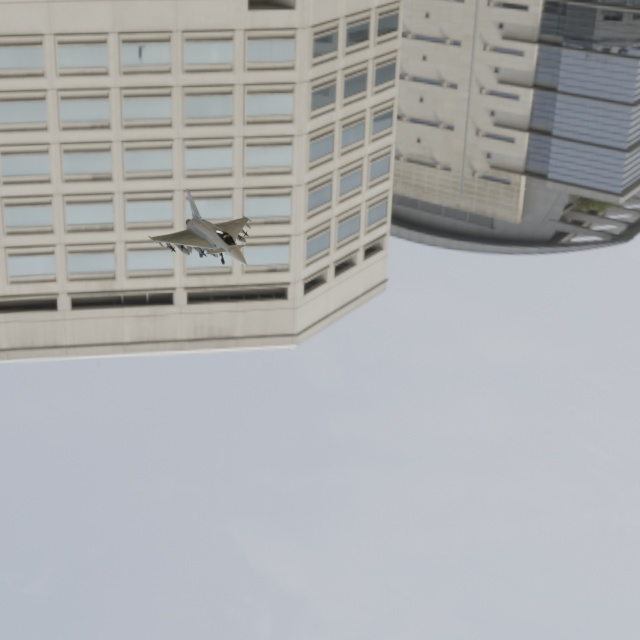eurofighter_typhoon_3d: (136, 178, 302, 297)
